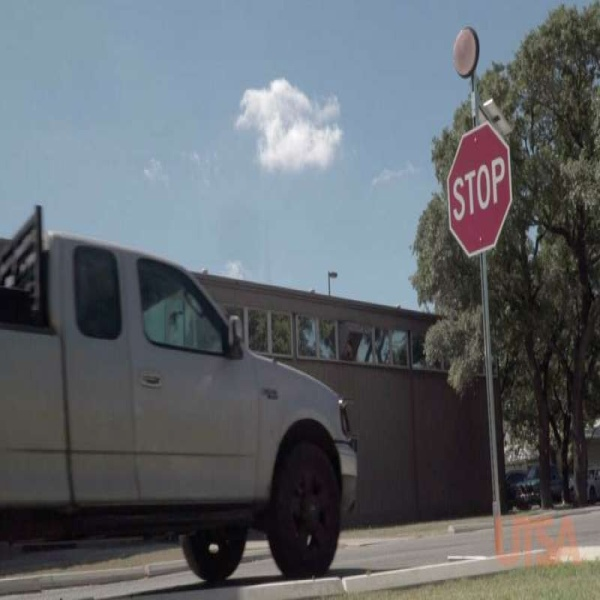stop: (442, 130, 513, 254)
